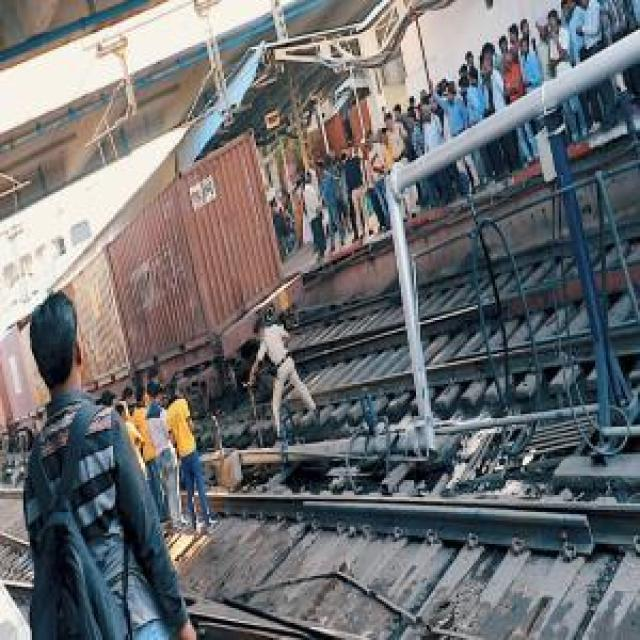danger: (14, 293, 199, 639), (243, 314, 318, 439), (163, 378, 219, 536), (145, 378, 184, 531), (550, 4, 584, 147), (374, 107, 421, 194), (360, 120, 397, 228), (340, 146, 370, 238), (296, 173, 326, 258), (298, 179, 325, 258), (308, 157, 334, 236), (498, 28, 524, 92), (520, 15, 542, 90), (412, 90, 437, 152), (442, 82, 467, 138), (271, 195, 292, 257), (124, 388, 143, 453), (464, 64, 483, 124), (483, 48, 500, 106)
rail: (248, 242, 640, 420)
